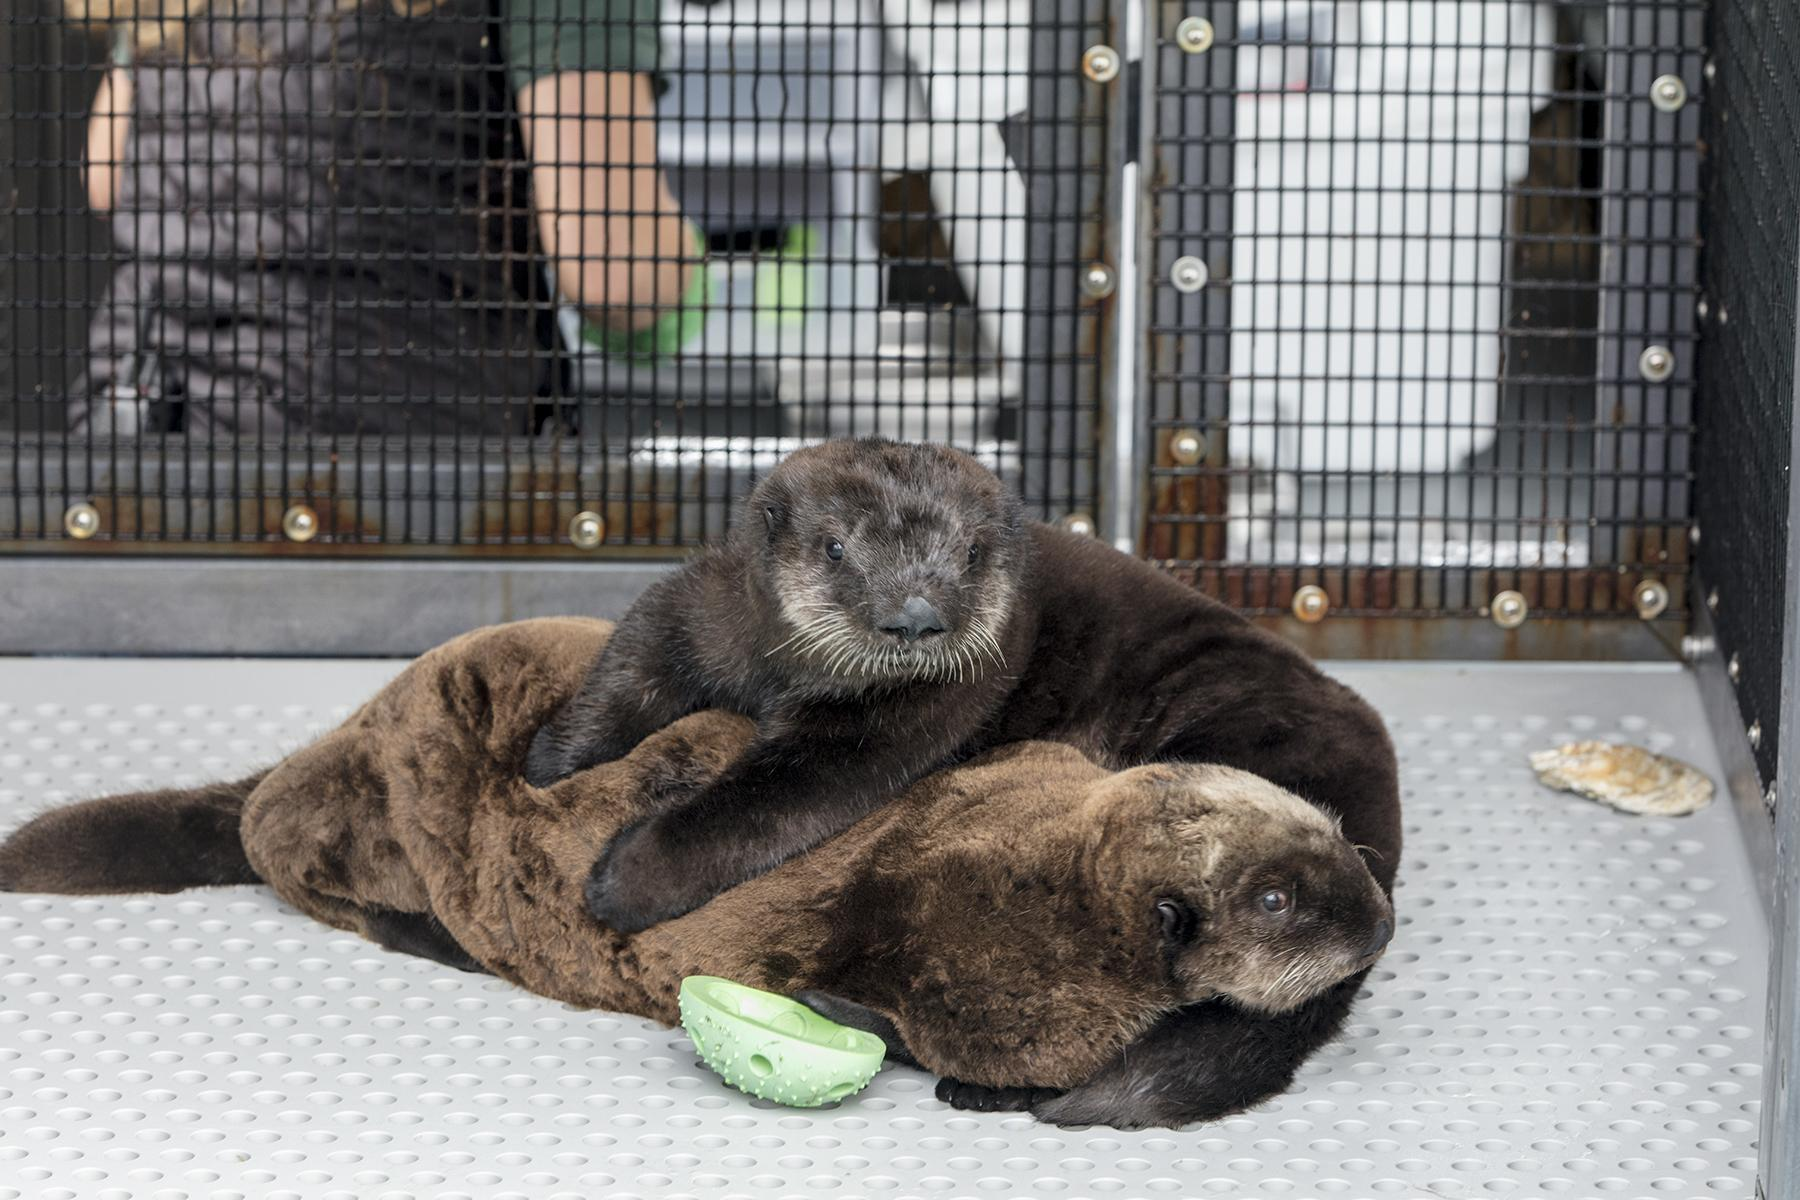otter: (647, 383, 1224, 688)
